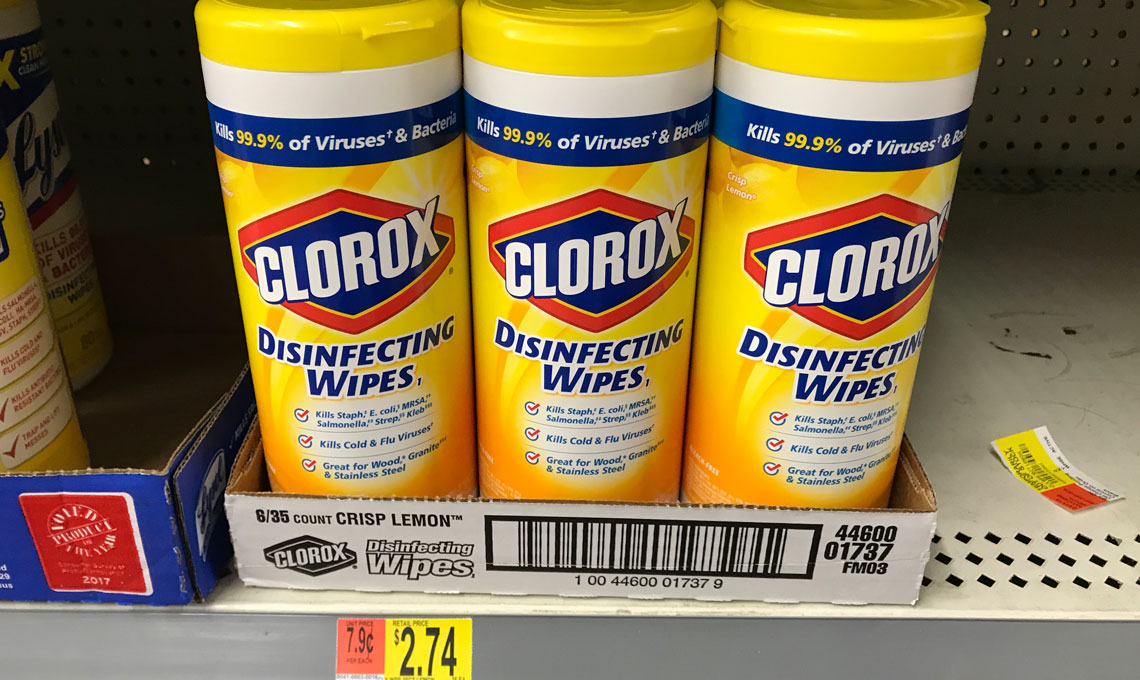Wipes: (685, 1, 993, 606), (185, 1, 472, 588), (457, 2, 720, 598)
